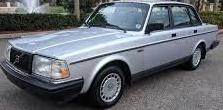Cars: (0, 2, 218, 107)
